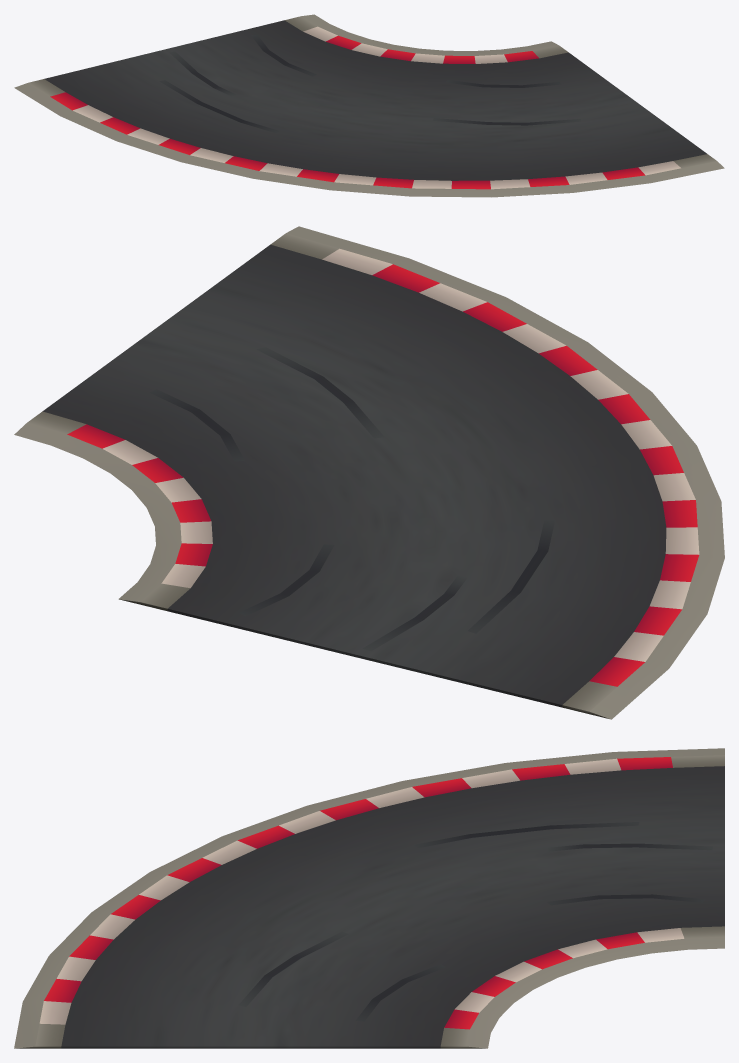
3 views of the same model, one above another, from view 1: azimuth 30°, elevation 25°; view 2: azimuth 150°, elevation 25°; view 3: azimuth 270°, elevation 25° (orthographic). The views are drawn at different scales.
Parts seen in each view (by area): view 1: Curve_1A, Curve_1A_Skidmarks; view 2: Curve_1A, Curve_1A_Skidmarks; view 3: Curve_1A, Curve_1A_Skidmarks.
Part boxes in pixels (x1,y1,x2,y2): Curve_1A: [14, 14, 724, 197]; Curve_1A_Skidmarks: [159, 34, 580, 133]; Curve_1A: [14, 226, 724, 719]; Curve_1A_Skidmarks: [150, 347, 554, 651]; Curve_1A: [14, 748, 724, 1048]; Curve_1A_Skidmarks: [238, 822, 712, 1021].
Size of the model in its own units: 3000 by 10.4 by 3000.
